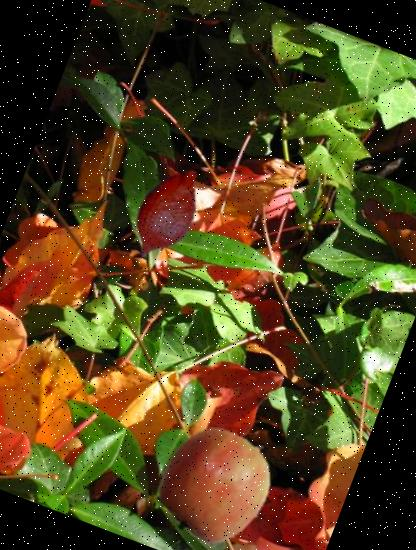Apple: (140, 408, 292, 550)
Salak: (100, 148, 232, 280)
